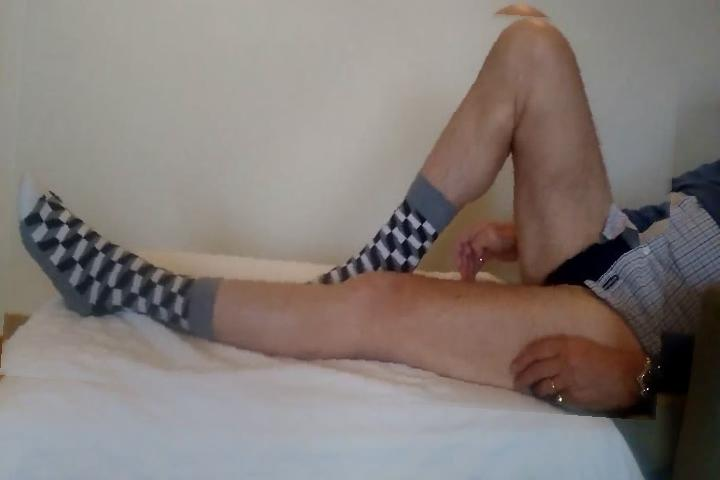lowerbody: (6, 1, 676, 409)
